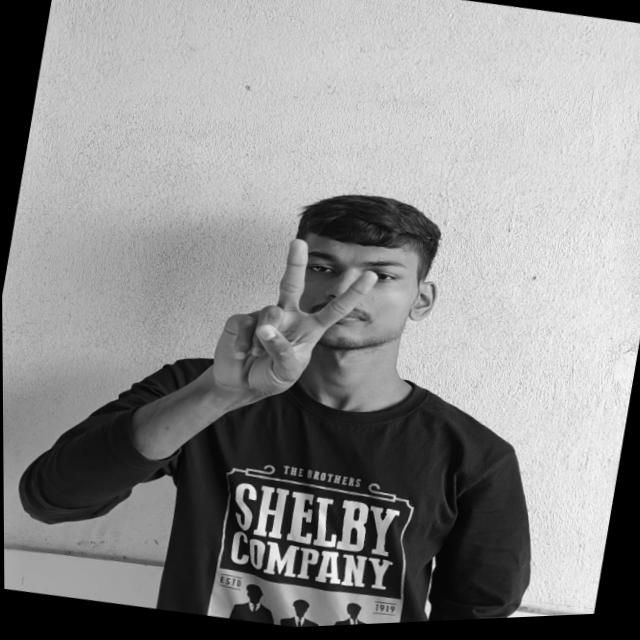Victory: (203, 225, 388, 426)
